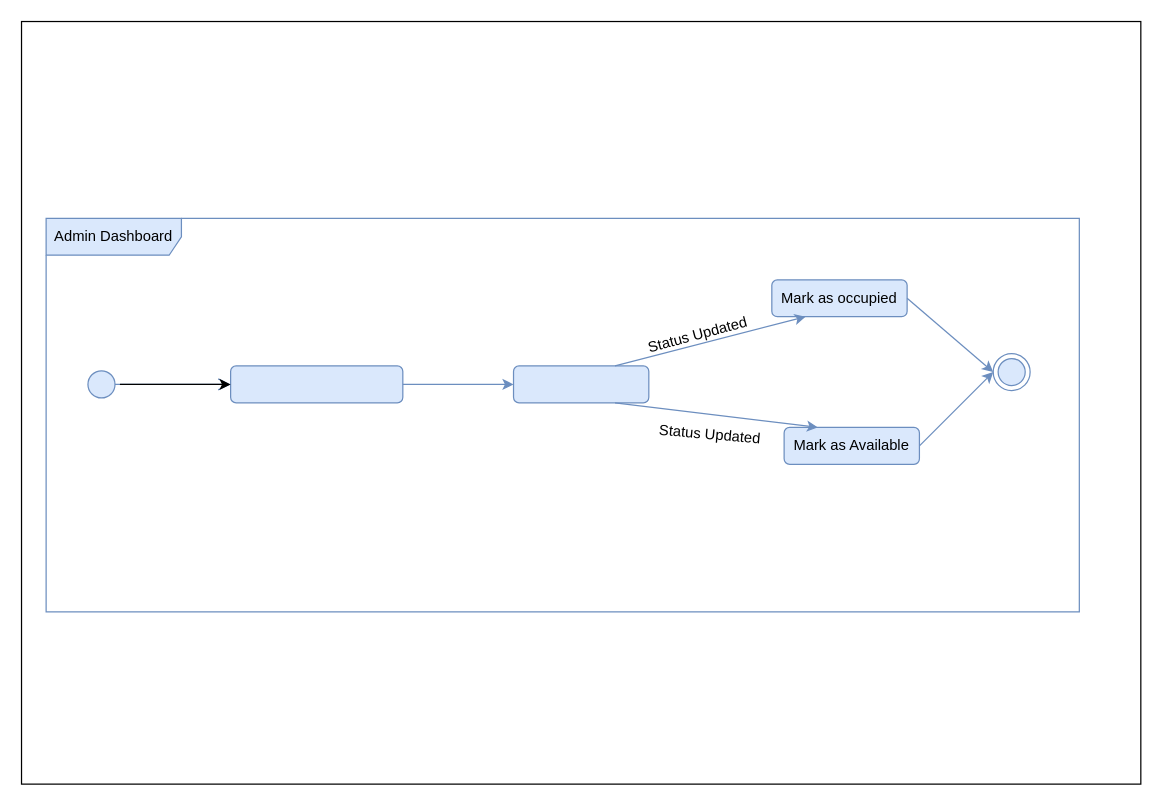
Some shapes in this 1162 by 806 pixel diagram are drawn without their labels. The centre of each missing label's shape, as x and y in pixels:
"Check Room Availability" goes at point 316,384.
"Update room status" goes at point 580,384.
